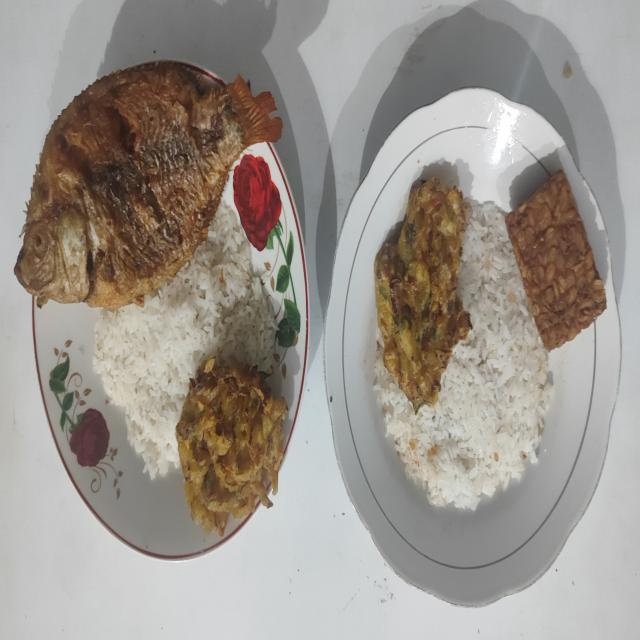ikan_mujair: (14, 61, 282, 310)
nasi_putih: (373, 200, 553, 510), (93, 200, 277, 478)
tempe_goreng: (505, 170, 606, 351)
